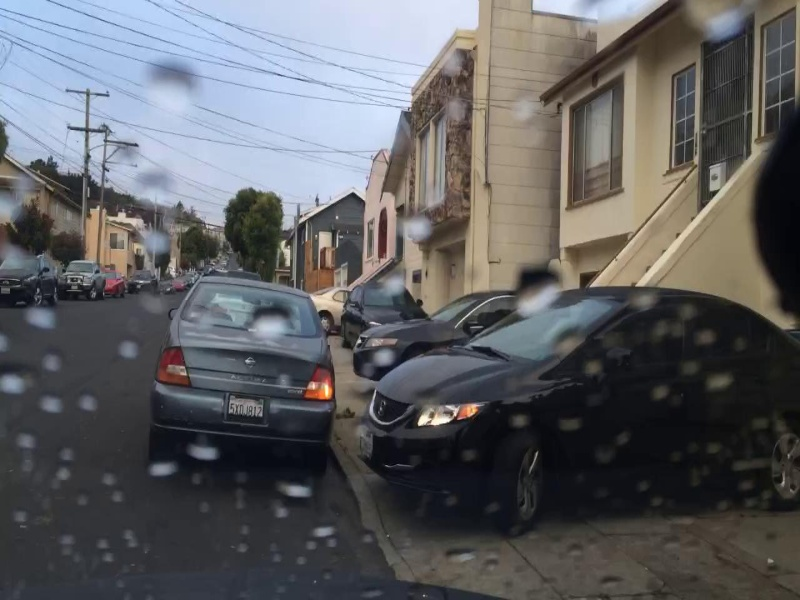car: (353, 299, 800, 532), (143, 275, 339, 459), (351, 285, 526, 380), (334, 281, 424, 344), (3, 256, 69, 305), (58, 259, 105, 296), (129, 270, 158, 292), (105, 268, 124, 295)
